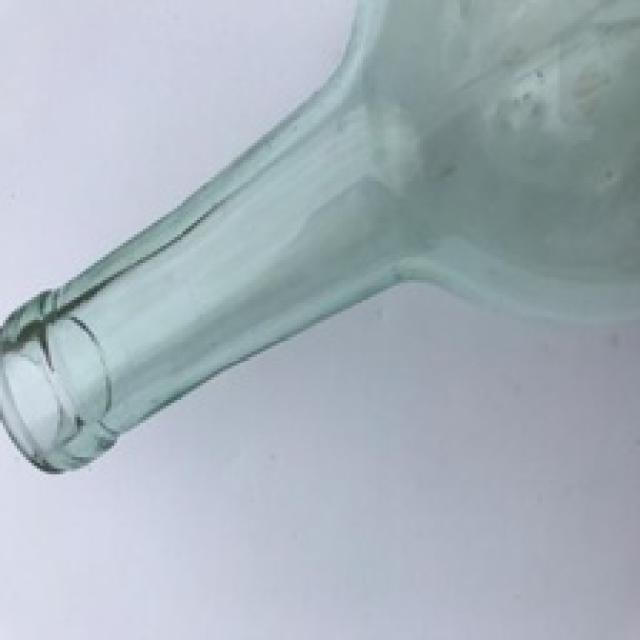Glass: (0, 0, 640, 476)
